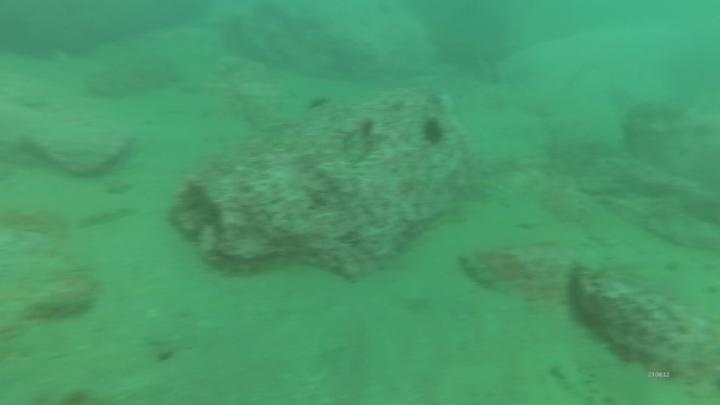echinus: (418, 115, 448, 148)
